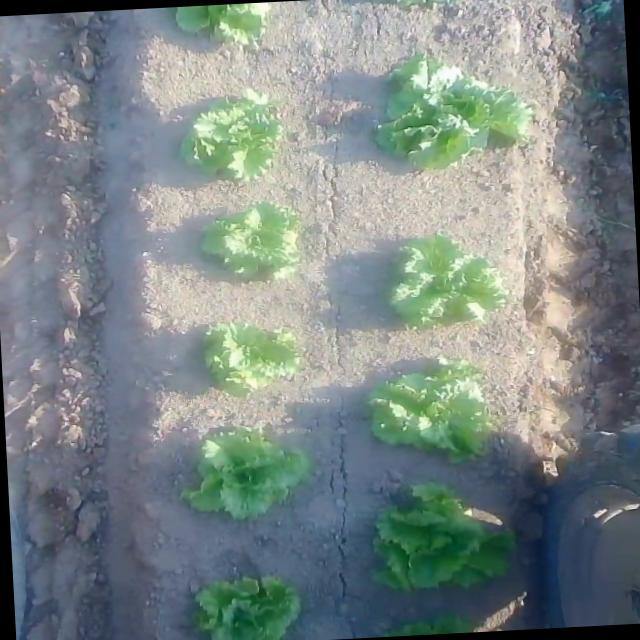Lettuce-Ready-to-Harvest: (160, 421, 324, 534), (376, 487, 540, 596), (372, 61, 530, 170), (195, 567, 315, 640)
